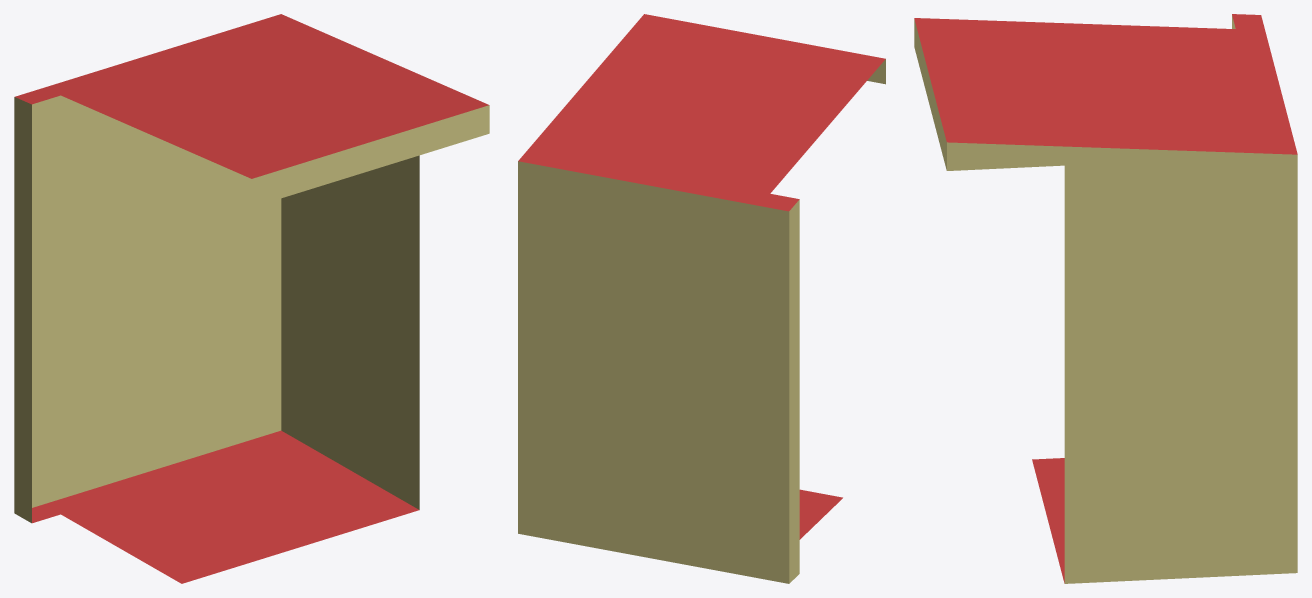
3 views of the same model, side by side, from view 1: azimuth 30°, elevation 25°; view 2: azimuth 150°, elevation 25°; view 3: azimuth 270°, elevation 25° (orthographic). The views are drawn at different scales.
Bounding box in the file's own units: 6.26 × 6.5 × 8.36.
